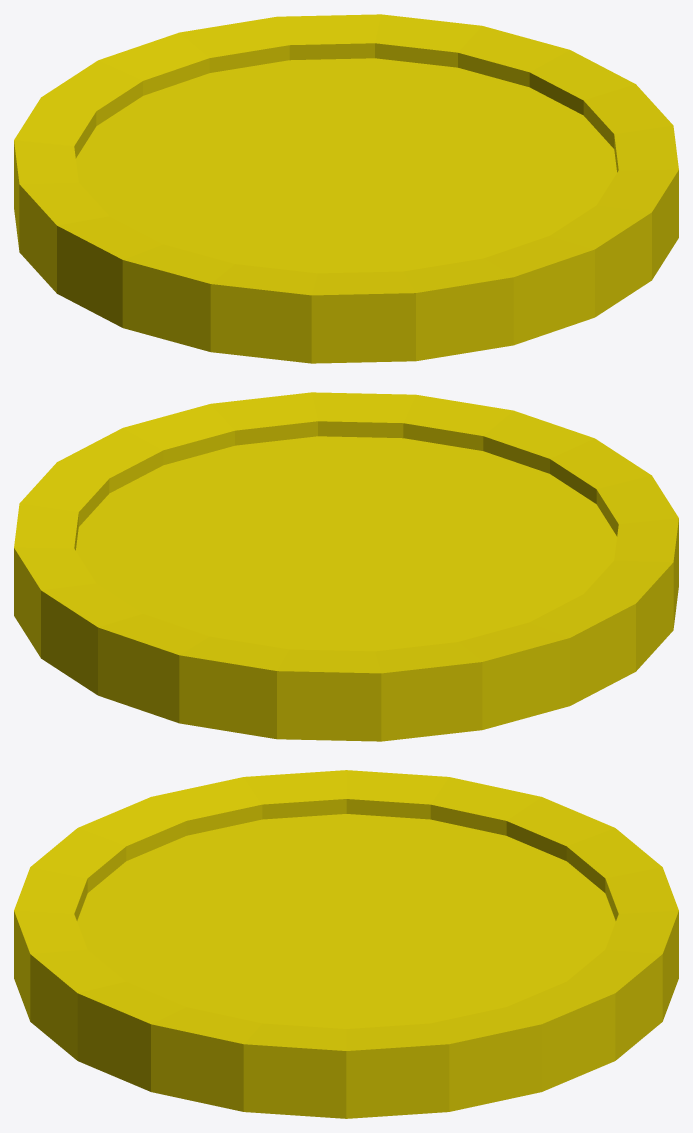
File: Coin.gltf
The picture shows the model from 3 angles, top to bottom: view 1: azimuth 30°, elevation 25°; view 2: azimuth 150°, elevation 25°; view 3: azimuth 270°, elevation 25°; orthographic projection.
Parts seen in each view (by area): view 1: Coin; view 2: Coin; view 3: Coin.
Boxes of the visible parts, <box> form: Coin: <box>14,14,678,363</box>; Coin: <box>14,392,678,741</box>; Coin: <box>14,770,678,1118</box>.
Size of the model in its own units: 0.04 by 0.0045 by 0.04.
